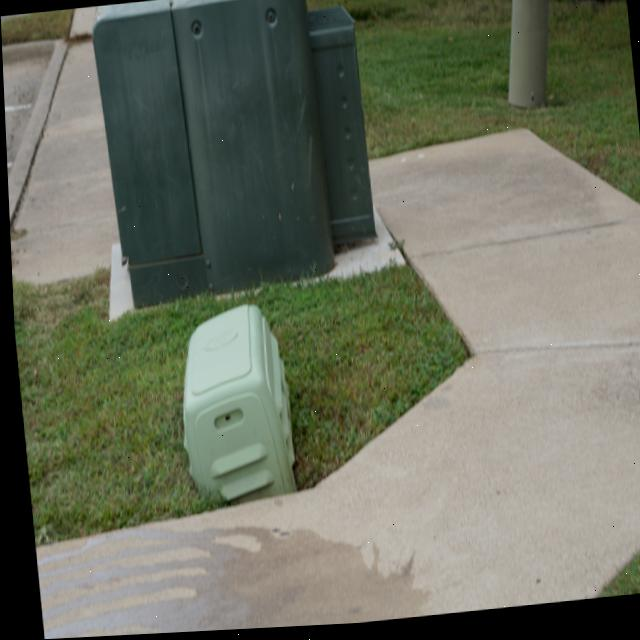Obstacle: (92, 0, 401, 320), (179, 307, 291, 504), (507, 0, 549, 115)
Road: (2, 42, 55, 176)
Sidewalk: (31, 136, 640, 639), (10, 42, 116, 282), (71, 7, 95, 37)
